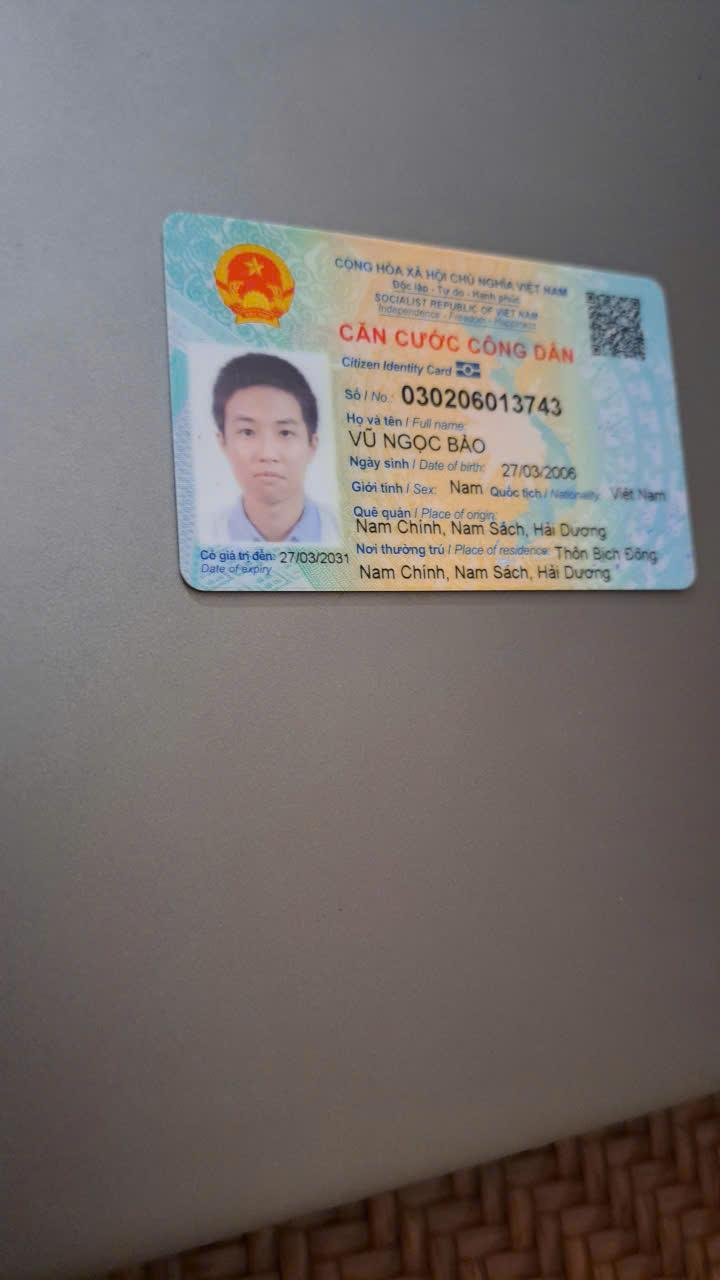cccd: (146, 205, 705, 598)
